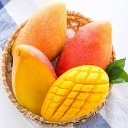mango: (11, 45, 59, 119)
